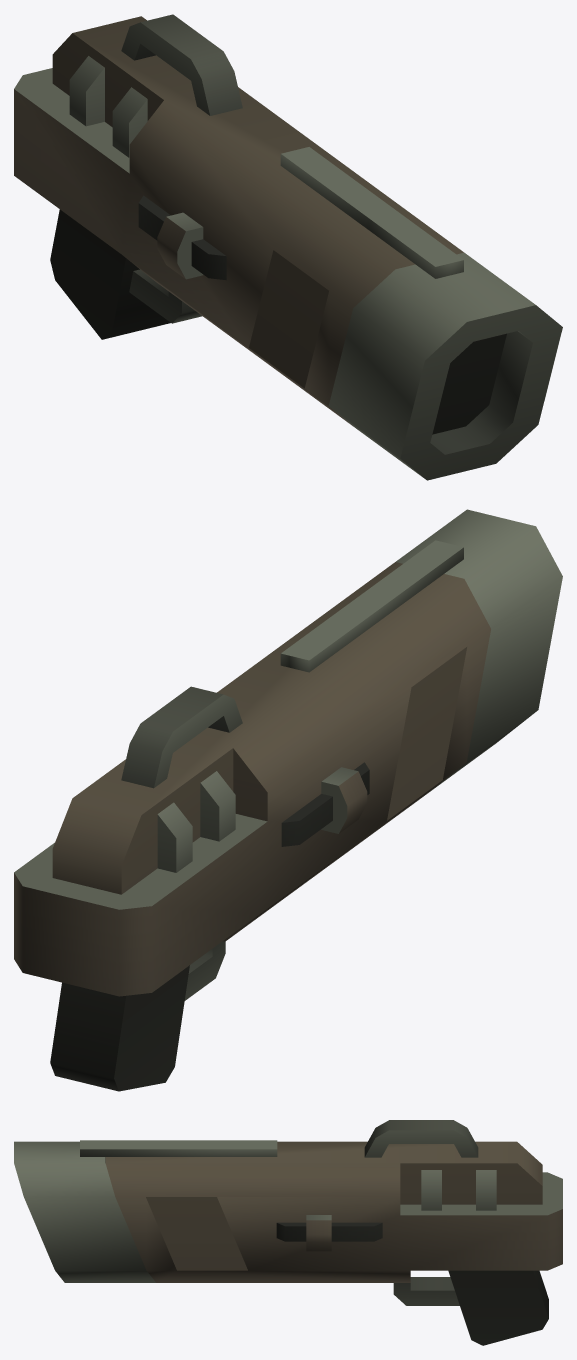
The model's file is launcher.glb.
3 renders of one model, top to bottom at view 1: azimuth 30°, elevation 25°; view 2: azimuth 150°, elevation 25°; view 3: azimuth 270°, elevation 25°, orthographic. The views are drawn at different scales.
Parts seen in each view (by area): view 1: blaster-h; view 2: blaster-h; view 3: blaster-h.
Boxes of the visible parts, bbox=[...] form: blaster-h: bbox=[14, 14, 562, 480]; blaster-h: bbox=[14, 509, 562, 1091]; blaster-h: bbox=[14, 1120, 562, 1345].
Bounding box in the file's own units: 0.2292 × 0.3813 × 0.9.
Materials: 1 (1 with a texture image).
